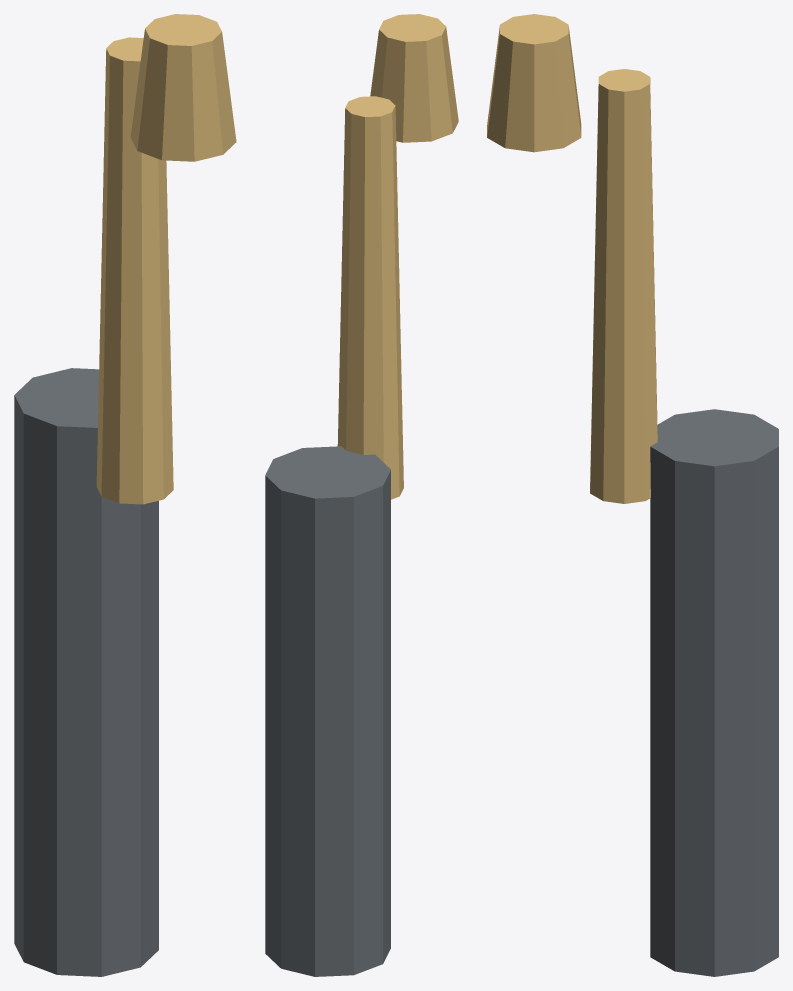
File: welding_torch.glb
3 views of the same model, side by side, from view 1: azimuth 30°, elevation 25°; view 2: azimuth 150°, elevation 25°; view 3: azimuth 270°, elevation 25° (orthographic). The views are drawn at different scales.
Visible parts, largest first — view 1: ErgonomicGrip, BrassNozzle; view 2: ErgonomicGrip, BrassNozzle; view 3: ErgonomicGrip, BrassNozzle.
Boxes of the visible parts, <box> form: ErgonomicGrip: <box>14,368,158,976</box>; BrassNozzle: <box>96,14,236,504</box>; ErgonomicGrip: <box>265,446,390,976</box>; BrassNozzle: <box>337,14,458,499</box>; ErgonomicGrip: <box>650,409,778,976</box>; BrassNozzle: <box>487,14,657,503</box>.
Bounding box in the file's own units: 0.06 × 0.45 × 0.1295.
